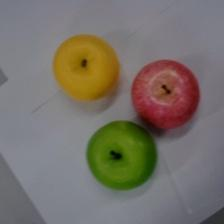green: (86, 120, 158, 191)
red: (131, 60, 200, 129)
yellow: (53, 34, 120, 101)
